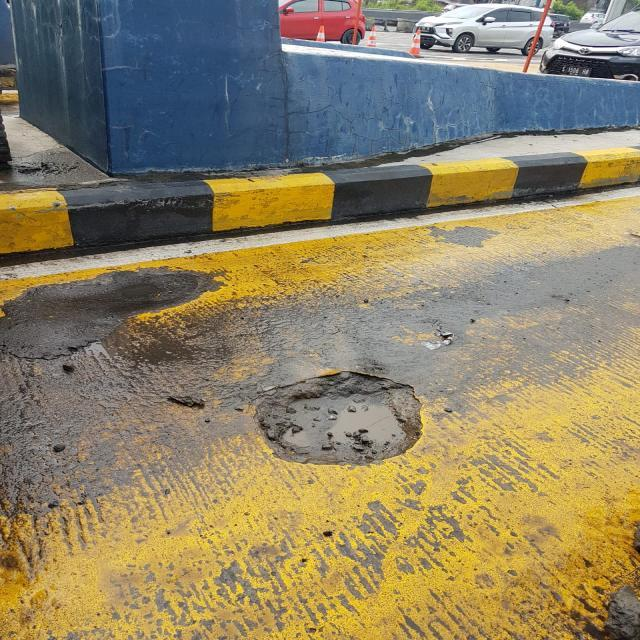Buraco: (245, 368, 426, 470)
